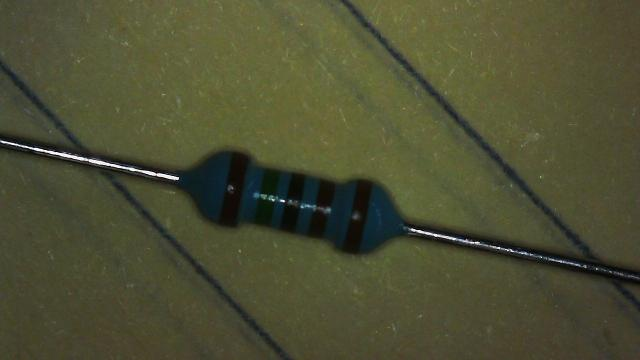black: (280, 173, 304, 232)
brown: (218, 152, 248, 226), (342, 179, 372, 252), (308, 180, 336, 237)
green: (255, 168, 280, 225)
resistor: (165, 120, 421, 292)
